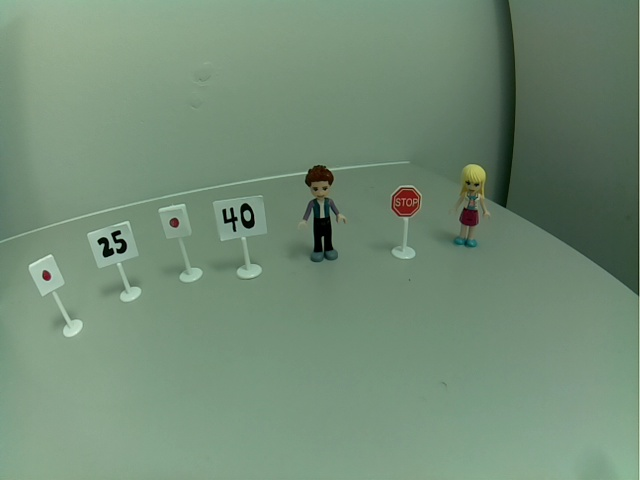people: (298, 162, 349, 263), (445, 161, 493, 252)
red light: (27, 253, 66, 298), (157, 201, 193, 241)
speed 25: (85, 219, 141, 269)
speed 40: (211, 193, 270, 242)
stop: (388, 183, 424, 221)
